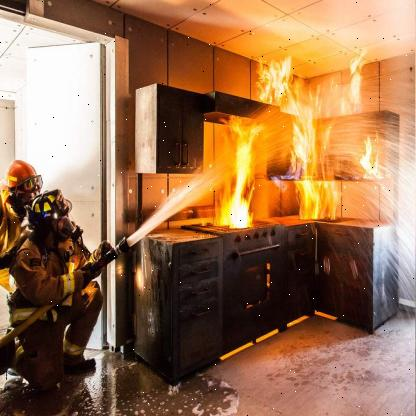fire: (258, 52, 382, 226), (217, 119, 264, 227)
